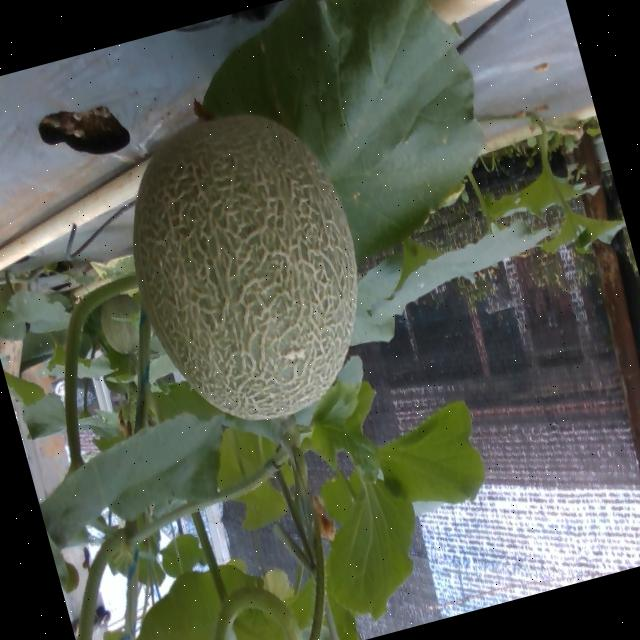melon: (131, 113, 355, 418)
